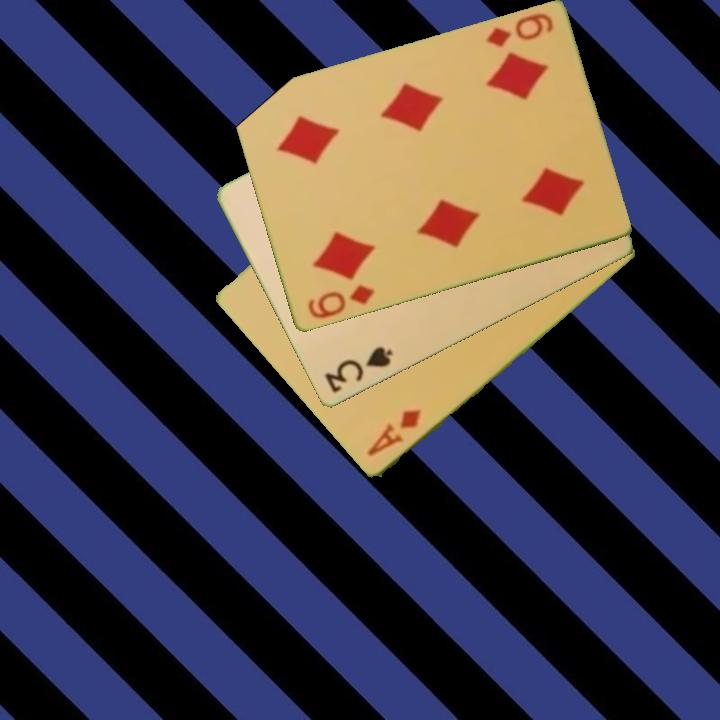3s: (321, 343, 396, 397)
6d: (303, 282, 377, 323), (482, 10, 556, 51)
Ad: (363, 406, 424, 460)
